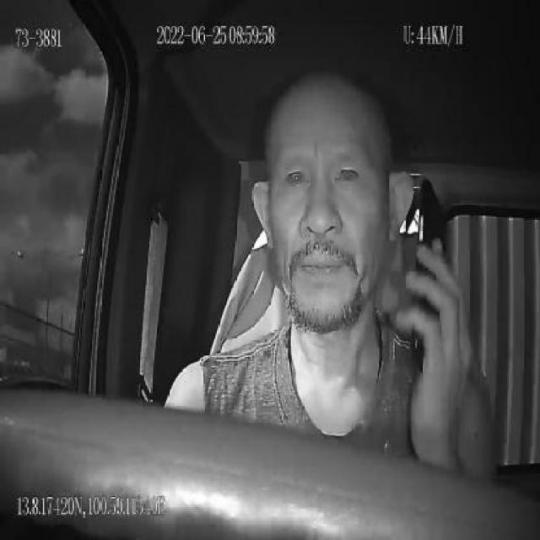phone: (415, 175, 450, 368)
